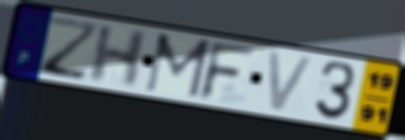3: (314, 61, 358, 123)
F: (196, 39, 259, 104)
H: (85, 24, 151, 90)
M: (142, 31, 214, 101)
V: (265, 48, 318, 115)
Z: (39, 15, 102, 84)
